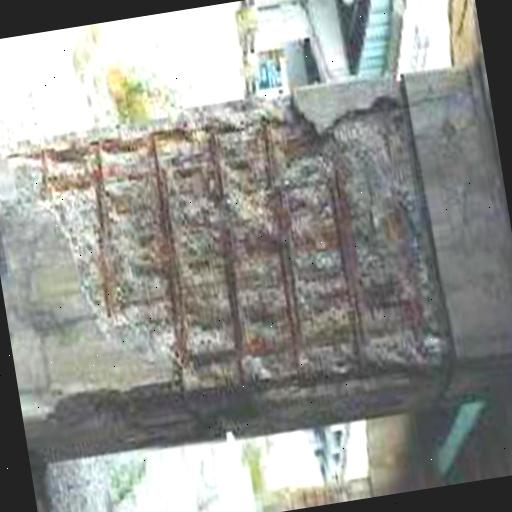spalling: (8, 73, 448, 437)
